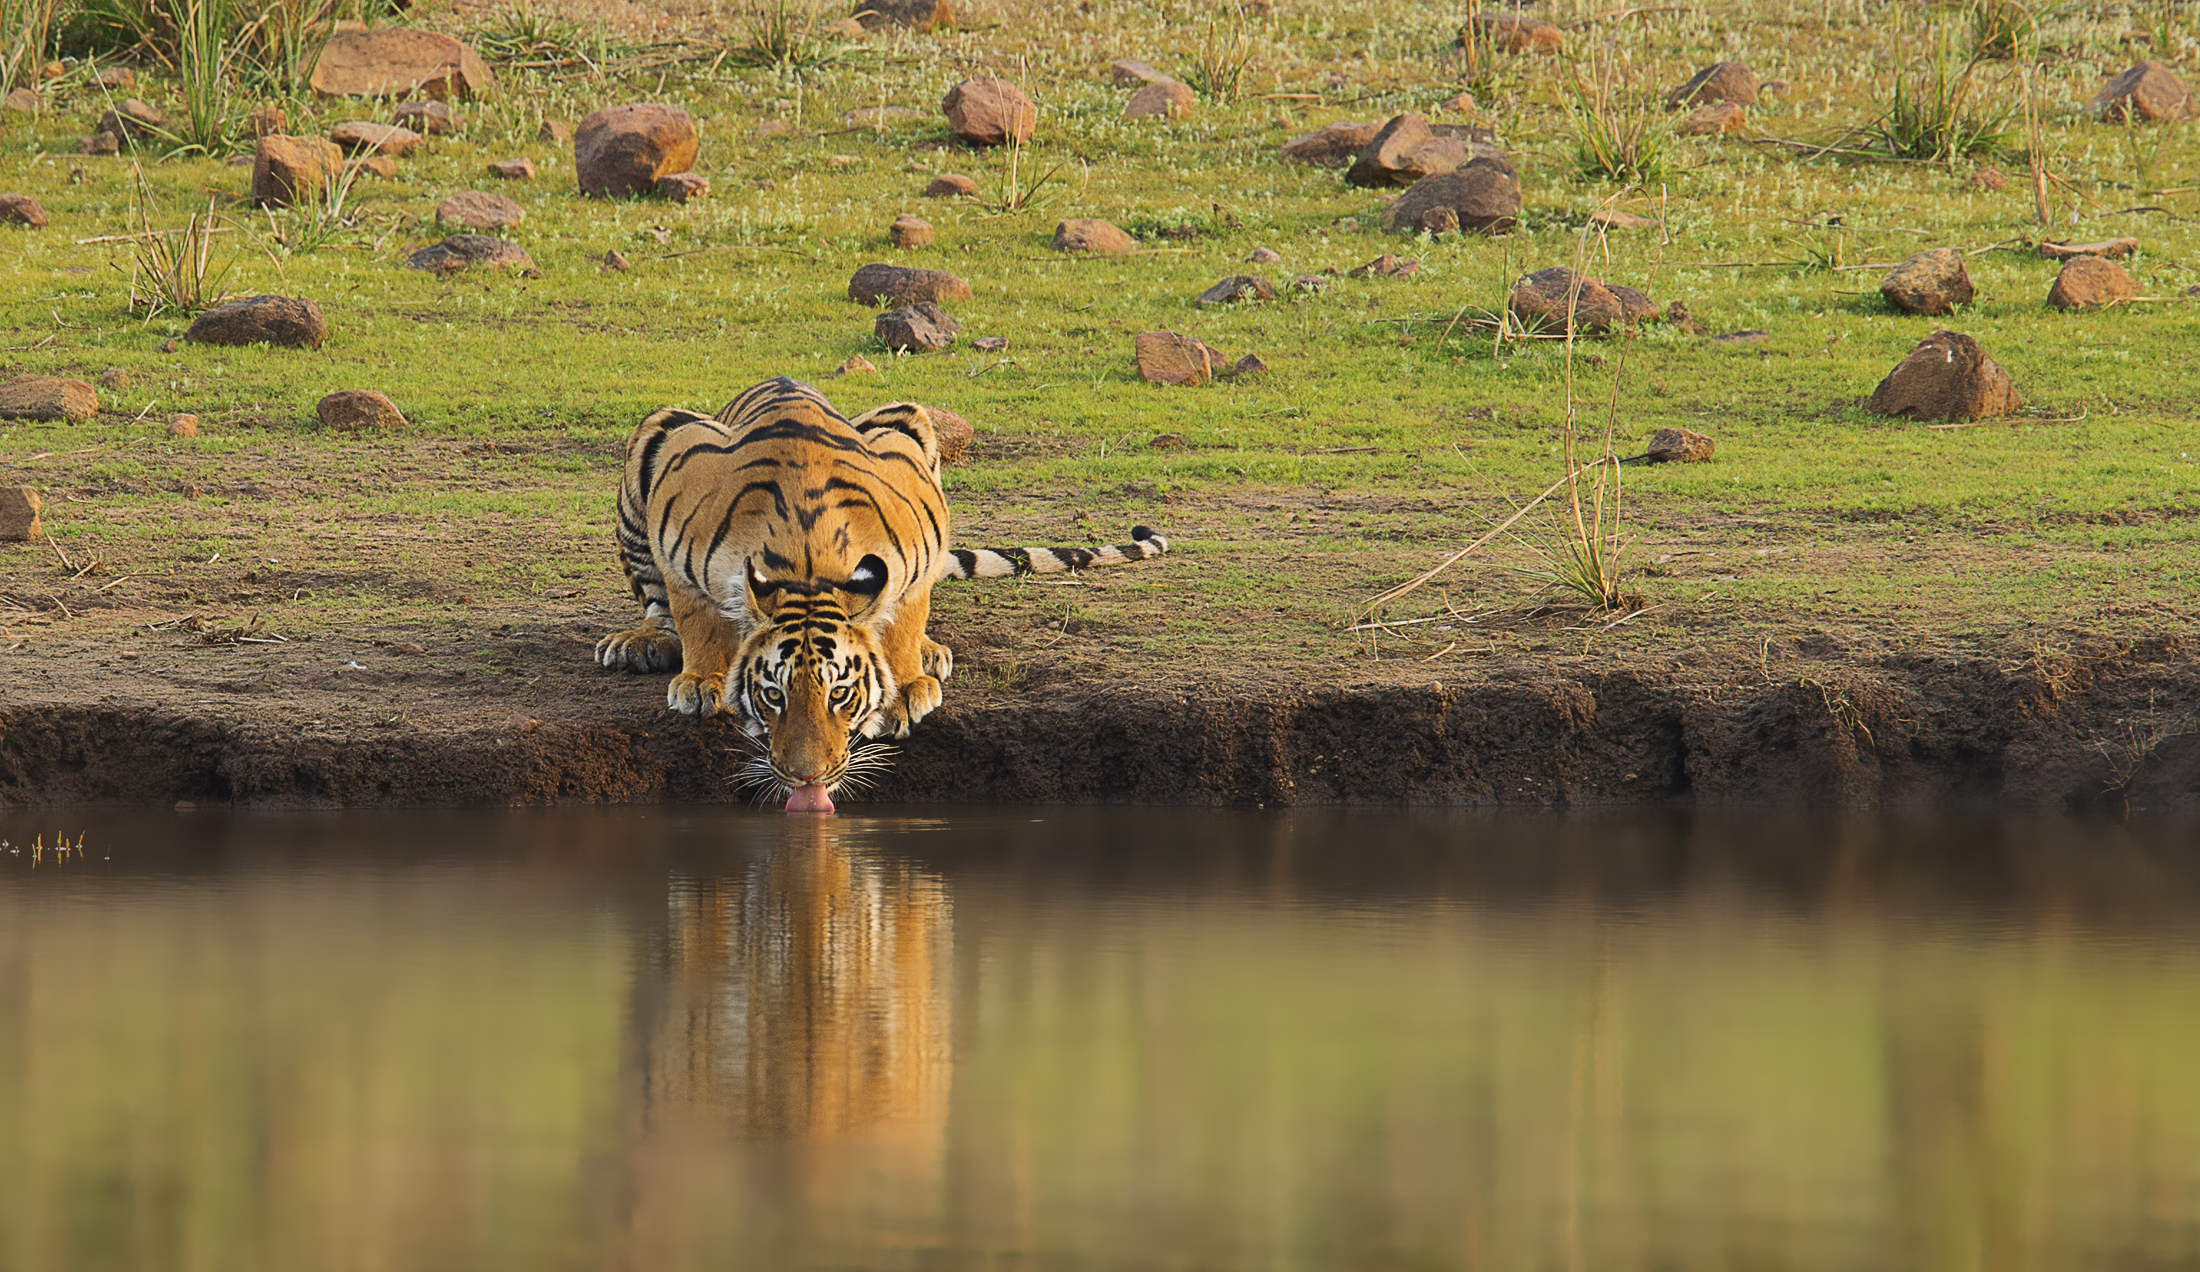tiger: (591, 344, 1146, 874)
